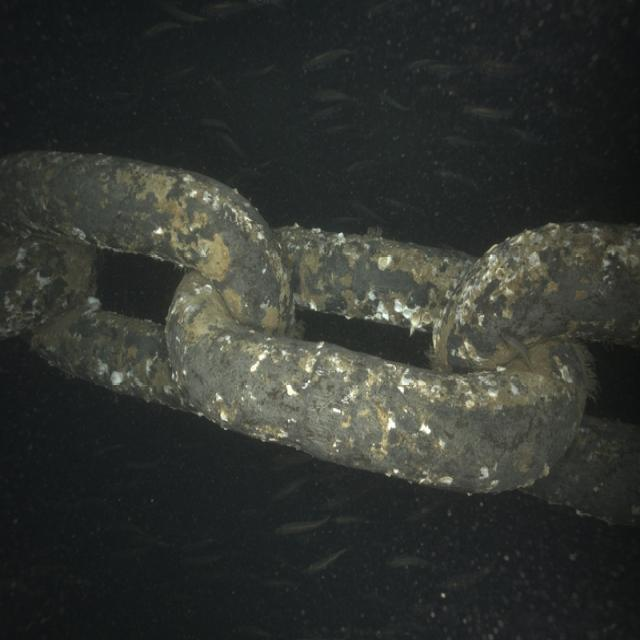ChainLink: (165, 274, 589, 491), (0, 152, 294, 332), (434, 222, 640, 368), (276, 227, 479, 336), (32, 301, 190, 409), (528, 417, 640, 524), (0, 231, 95, 338)
